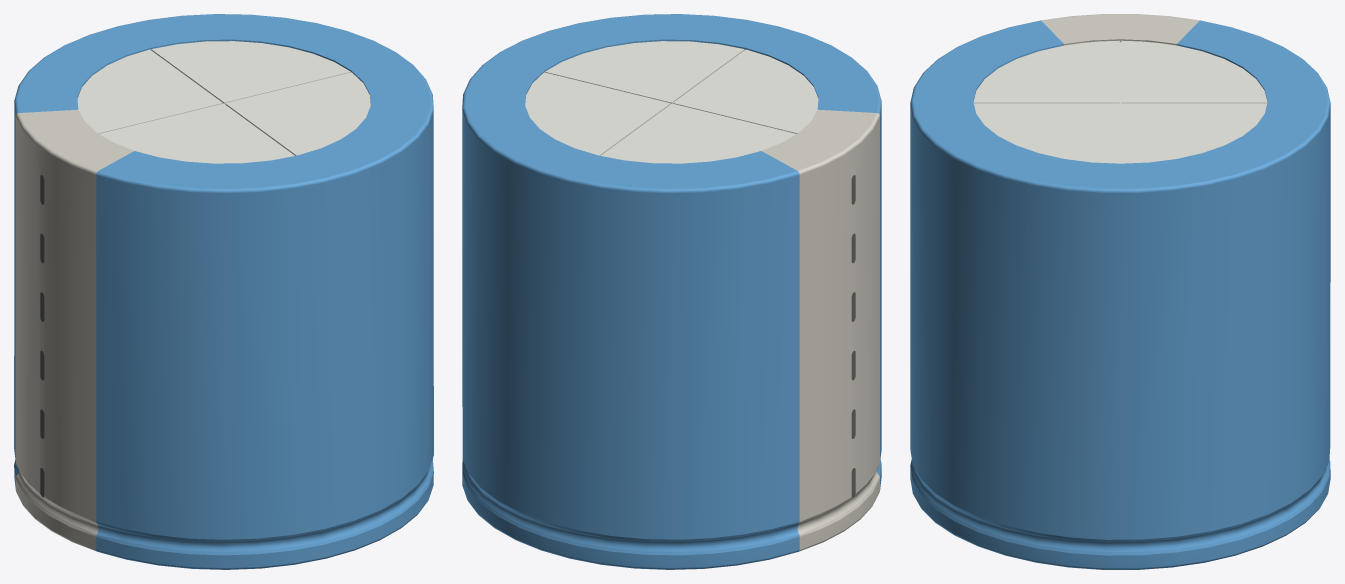
The model's file is kc-cp_radial_d26.0mm_p10.00mm_3pin_snapin.glb.
3 views of the same model, side by side, from view 1: azimuth 30°, elevation 25°; view 2: azimuth 150°, elevation 25°; view 3: azimuth 270°, elevation 25° (orthographic).
Parts seen in each view (by area): view 1: 0.16666666666666666_0.4166666666666667_0.75_0, 0.6666666666666666_0.6666666666666666_0.5833333333333334_0, 0.8333333333333334_0.8333333333333334_0.75_0.85, 0.16666666666666666_0.16666666666666666_0.16666666666666666_; view 2: 0.16666666666666666_0.4166666666666667_0.75_0, 0.6666666666666666_0.6666666666666666_0.5833333333333334_0, 0.8333333333333334_0.8333333333333334_0.75_0.85, 0.16666666666666666_0.16666666666666666_0.16666666666666666_; view 3: 0.16666666666666666_0.4166666666666667_0.75_0, 0.8333333333333334_0.8333333333333334_0.75_0.85, 0.6666666666666666_0.6666666666666666_0.5833333333333334_0.
Part boxes in pixels (x1,y1,x2,y2): 0.16666666666666666_0.4166666666666667_0.75_0: [14, 14, 433, 569]; 0.6666666666666666_0.6666666666666666_0.5833333333333334_0: [16, 109, 133, 551]; 0.8333333333333334_0.8333333333333334_0.75_0.85: [77, 41, 370, 163]; 0.16666666666666666_0.16666666666666666_0.16666666666666666_: [40, 175, 44, 497]; 0.16666666666666666_0.4166666666666667_0.75_0: [462, 14, 881, 569]; 0.6666666666666666_0.6666666666666666_0.5833333333333334_0: [762, 109, 879, 551]; 0.8333333333333334_0.8333333333333334_0.75_0.85: [525, 41, 818, 163]; 0.16666666666666666_0.16666666666666666_0.16666666666666666_: [851, 175, 855, 497]; 0.16666666666666666_0.4166666666666667_0.75_0: [910, 20, 1330, 569]; 0.8333333333333334_0.8333333333333334_0.75_0.85: [973, 40, 1267, 163]; 0.6666666666666666_0.6666666666666666_0.5833333333333334_0: [1041, 14, 1199, 45].
Size of the model in its own units: 2.6 by 2.8 by 2.6.
